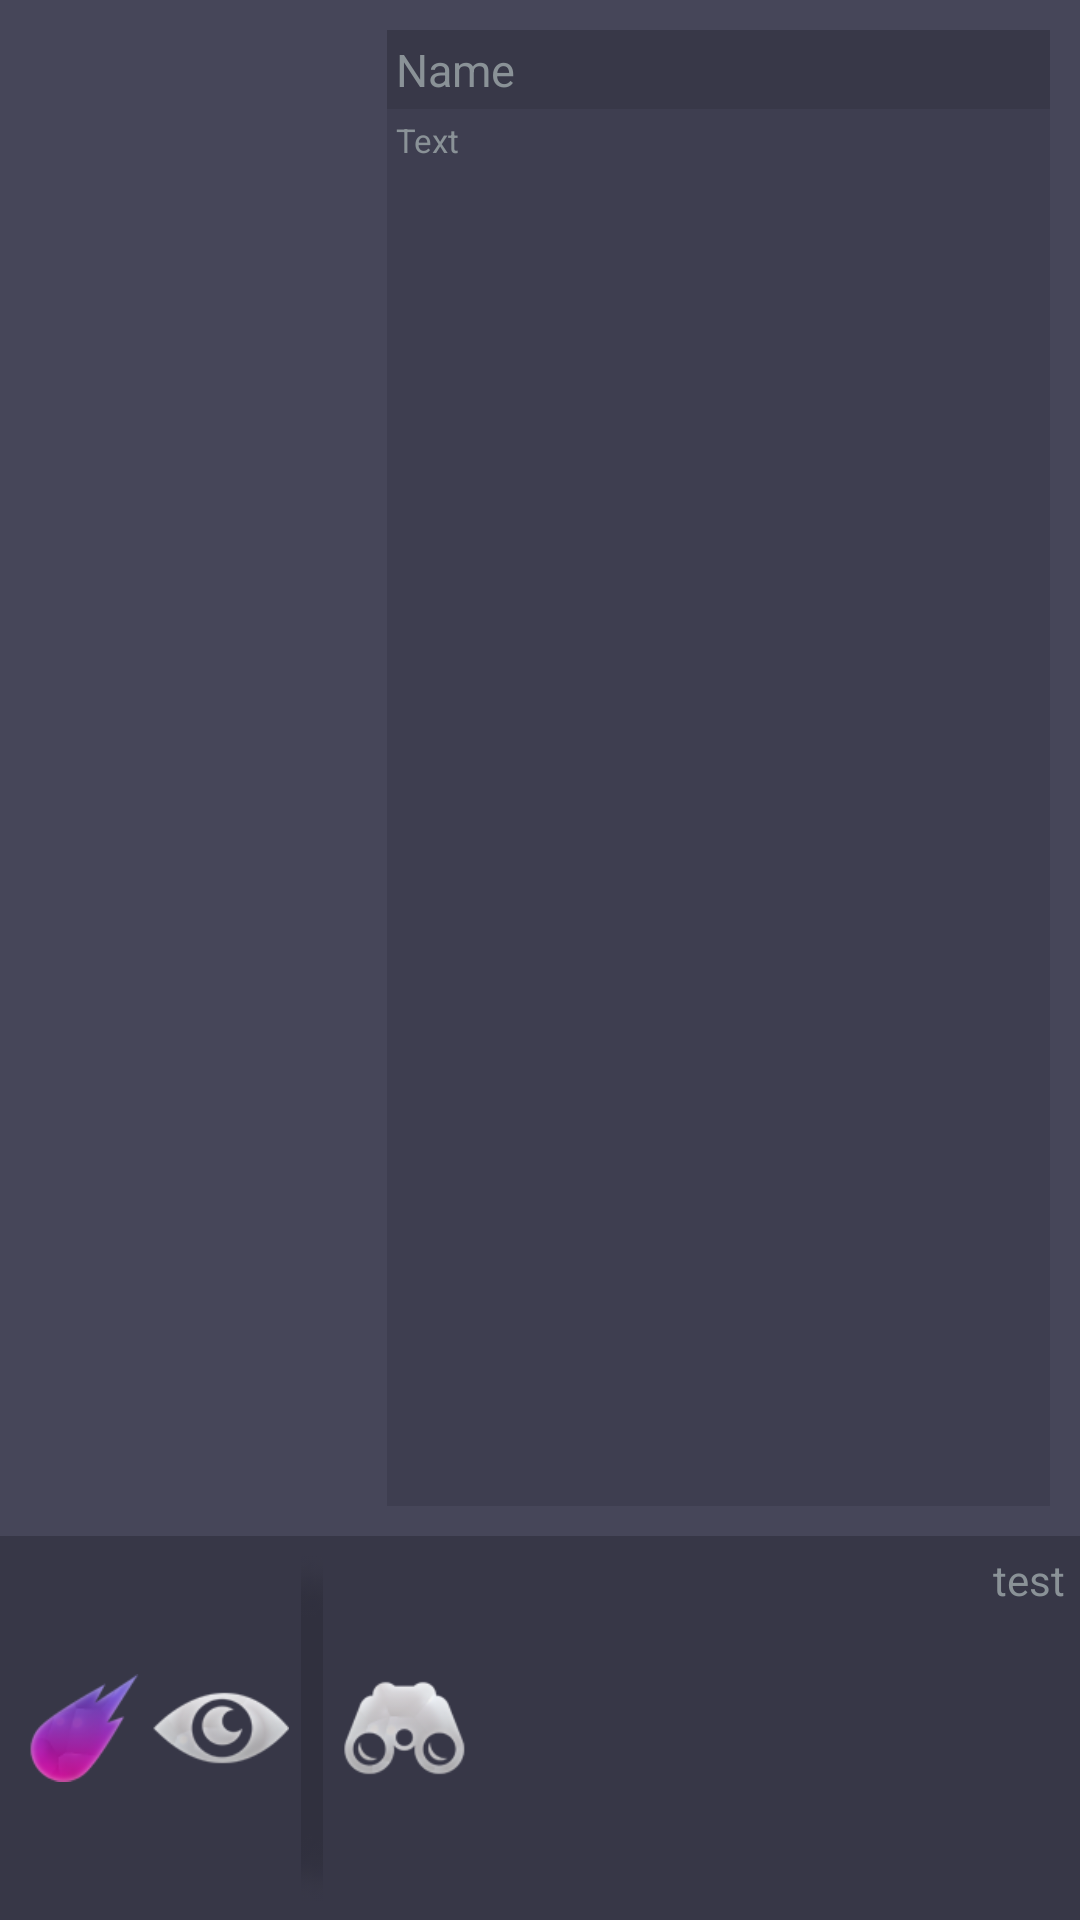

Screen size 1080 × 1920. Icon name, then its box in pixels as (x1, y1, x2, y2):
type comet: (30, 1674, 138, 1782)
vis bino: (344, 1682, 465, 1774)
vis eye: (153, 1692, 289, 1763)
